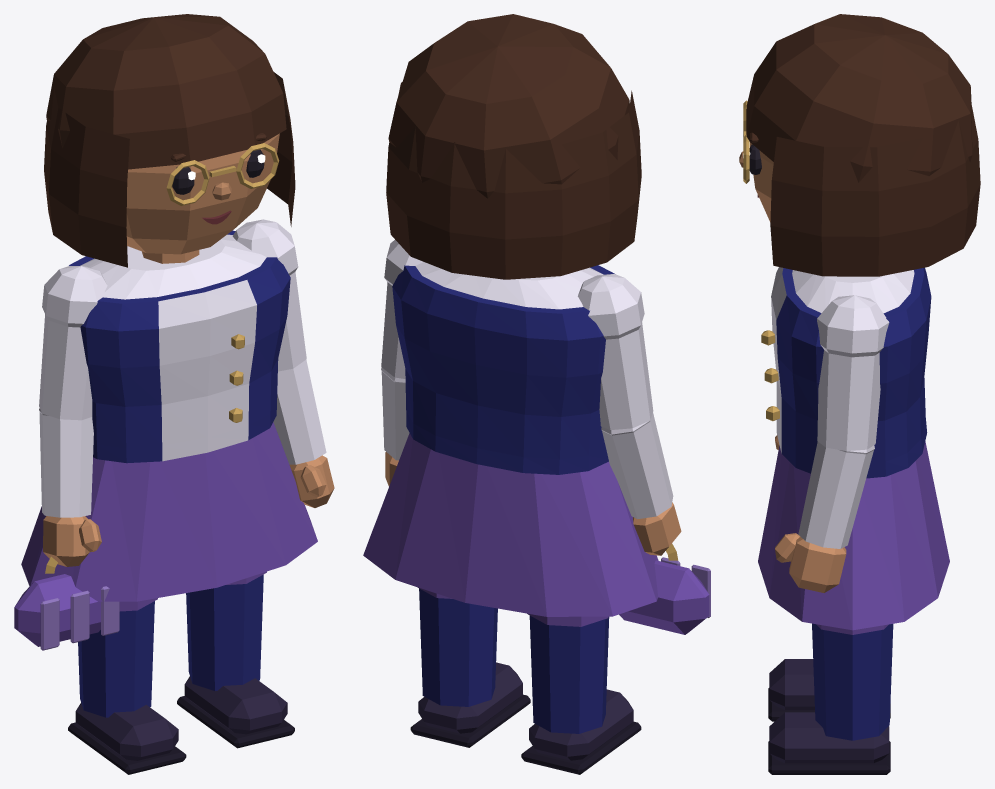
File: pri-n1.glb
3 renders of one model, left to right at view 1: azimuth 30°, elevation 25°; view 2: azimuth 150°, elevation 25°; view 3: azimuth 270°, elevation 25°, orthographic.
Parts seen in each view (by area): view 1: haare, weste, rock, arm_r, kopf, bein_l, arm_l, bein_r, torso, gegenstand_gemcase, schuh_r, schuh_l (+4 smaller); view 2: haare, rock, weste, arm_r, bein_r, bein_l, schuh_r, schuh_l, gegenstand_gemcase, torso, arm_l, hand_r; view 3: haare, rock, weste, arm_l, bein_l, schuh_l, torso, hand_l, schuh_r, gesicht, kopf, knöpfe.
Part boxes in pixels (box(x1,y1,x2,y2)): haare: box(44, 14, 295, 267); weste: box(69, 230, 290, 463); rock: box(21, 422, 317, 601); arm_r: box(39, 266, 107, 517); kopf: box(126, 133, 279, 254); bein_l: box(186, 571, 266, 690); arm_l: box(232, 219, 326, 464); bein_r: box(78, 598, 157, 717); torso: box(80, 234, 266, 299); gegenstand_gemcase: box(14, 556, 119, 650); schuh_r: box(68, 702, 186, 774); schuh_l: box(177, 676, 294, 748); haare: box(386, 14, 641, 279); rock: box(363, 433, 658, 616); weste: box(392, 265, 614, 474); arm_r: box(578, 274, 673, 519); bein_r: box(527, 613, 609, 733); bein_l: box(417, 587, 497, 706); schuh_r: box(521, 689, 641, 774); schuh_l: box(410, 662, 530, 747); gegenstand_gemcase: box(619, 543, 710, 634); torso: box(415, 262, 603, 309); arm_l: box(381, 240, 423, 460); hand_r: box(633, 502, 681, 555); haare: box(746, 14, 980, 276); rock: box(758, 441, 949, 630); weste: box(771, 267, 931, 478); arm_l: box(798, 295, 889, 548); bein_l: box(812, 623, 893, 740); schuh_l: box(768, 712, 890, 774); torso: box(792, 270, 914, 313); hand_l: box(775, 533, 846, 592); schuh_r: box(768, 659, 890, 721); gesicht: box(739, 100, 761, 197); kopf: box(750, 142, 773, 221); knöpfe: box(761, 330, 779, 421).
Bounding box in the file's own units: 0.0112 × 0.024 × 0.00748.
